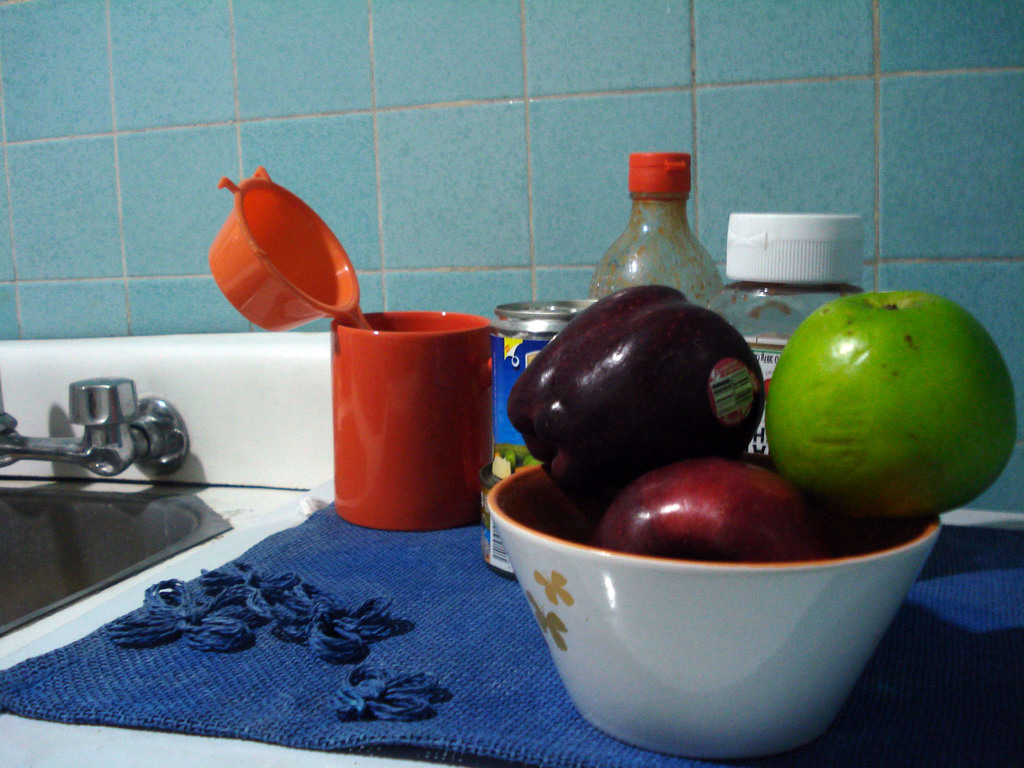Apple: (504, 282, 764, 522), (759, 286, 1010, 533), (595, 457, 827, 563)
